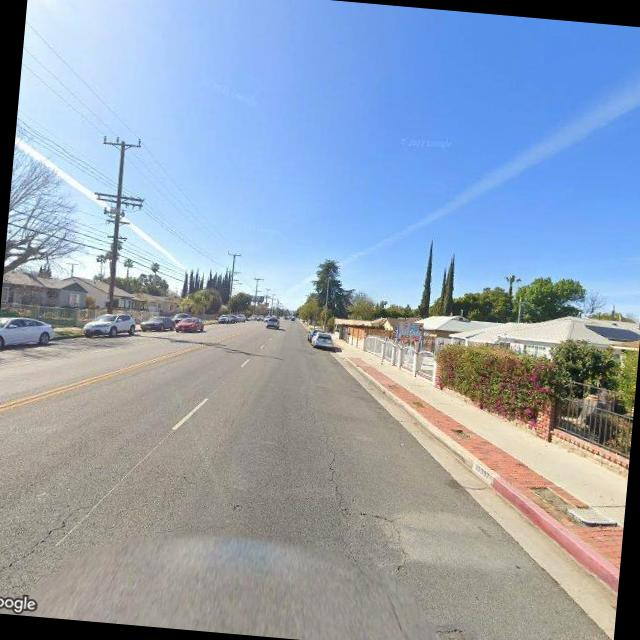pothole: (299, 404, 421, 582), (0, 484, 97, 590)
